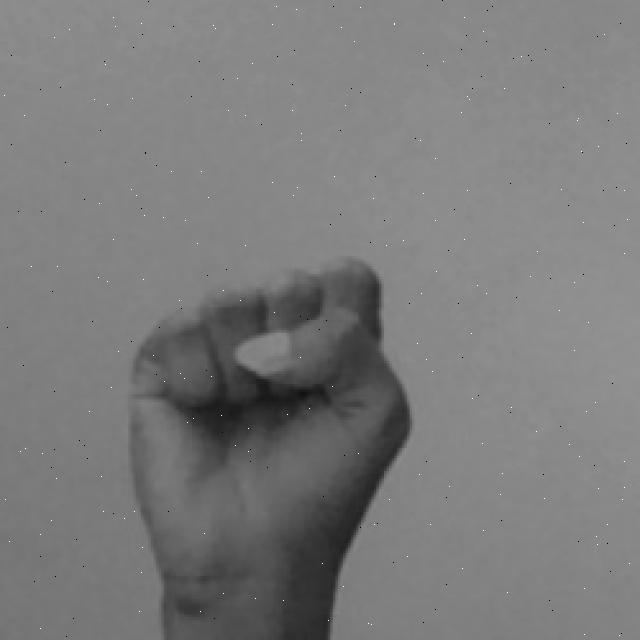S: (113, 246, 420, 640)
